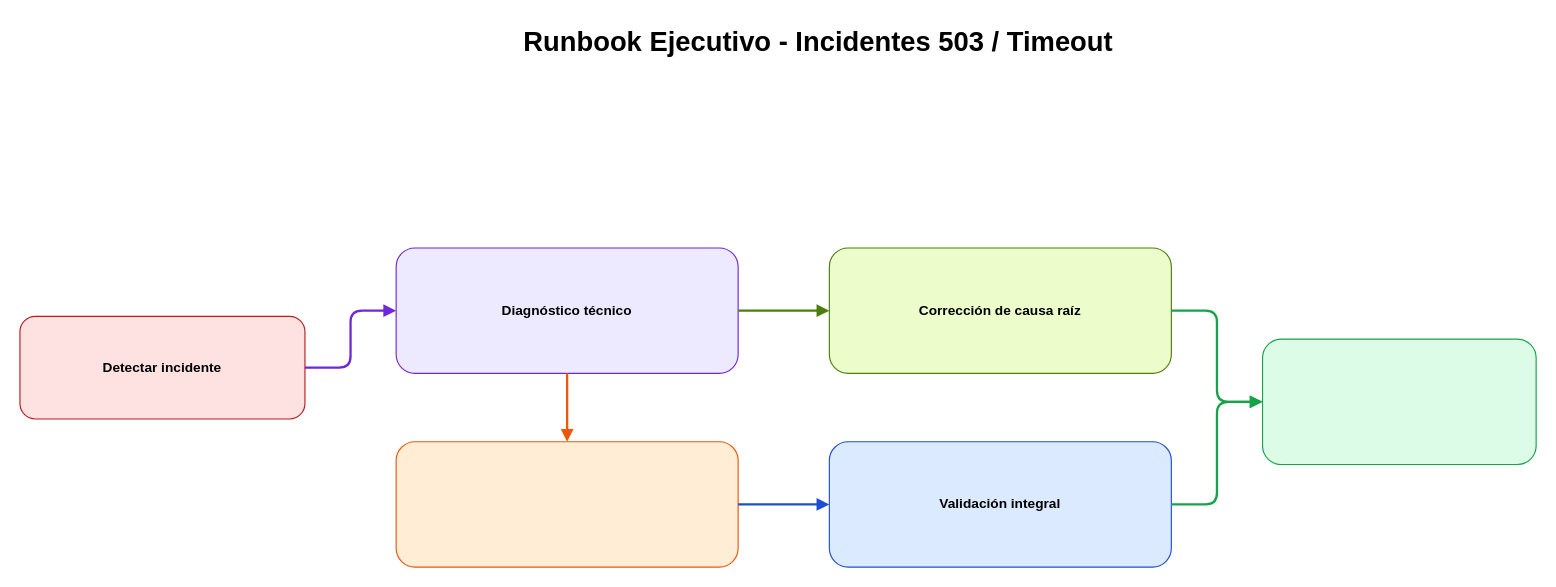
This 1556x587 diagram has some shape labels left out. Each missing label, with the box of its shape:
Cierre ejecutivo: (1261, 338, 1536, 465)
Contención y recuperación: (395, 441, 738, 567)
